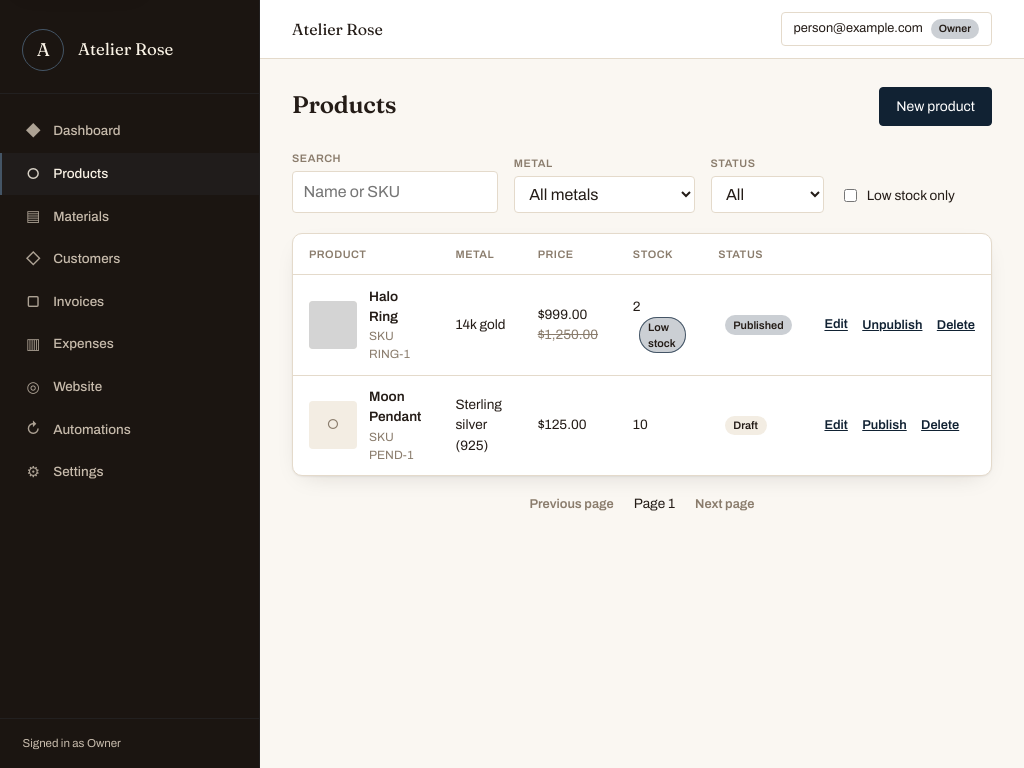
Scenario: products list › filters by search, metal, status and low stock (in the URL and the request)
This screenshot has width=1024, height=768.
Expected: the link "Halo Ring" is shown, [369,289,398,324]
Type "ring" into the search field labelled "Search" at (395, 192), box [292,171,498,213]
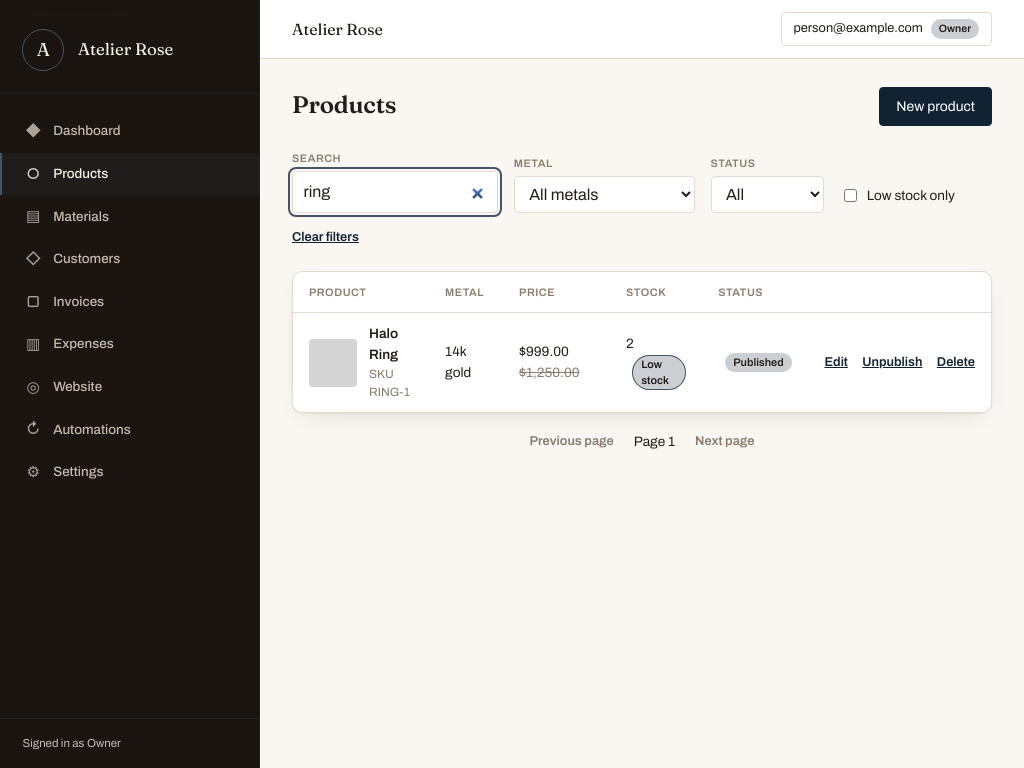
Expected: the link "Moon Pendant" is gone
Select "14k gold" in the dropdown labelled "Metal" at (604, 195), box [514,176,695,213]
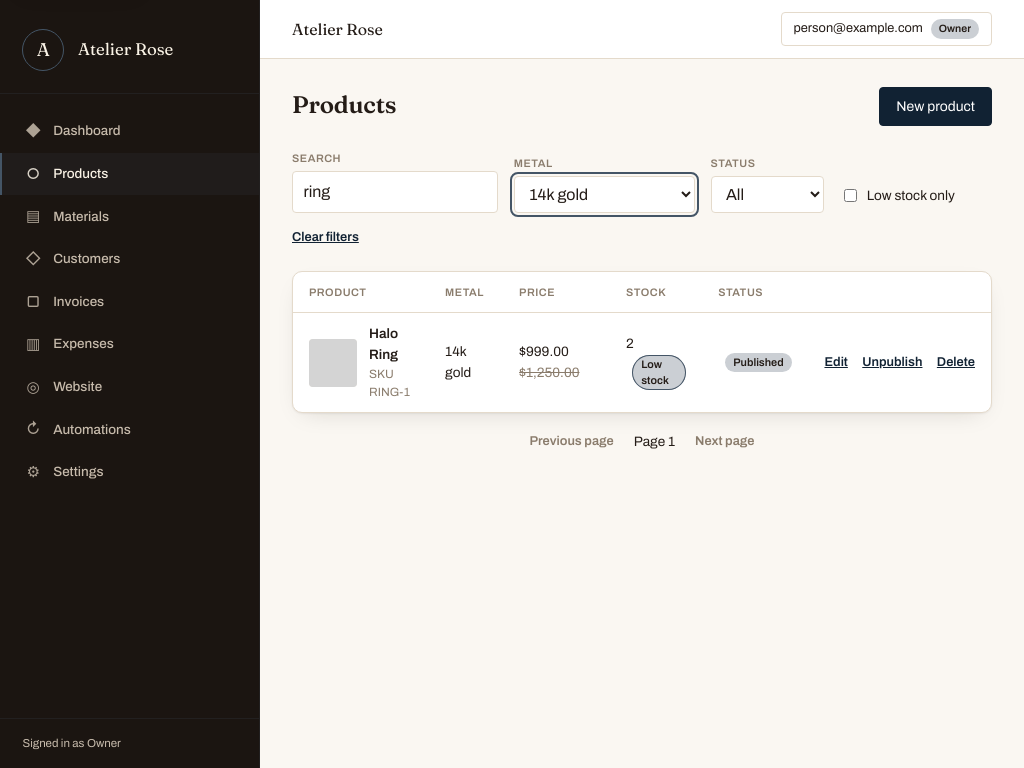
Select "Published" in the dropdown labelled "Status" at (768, 195), box [711,176,824,213]
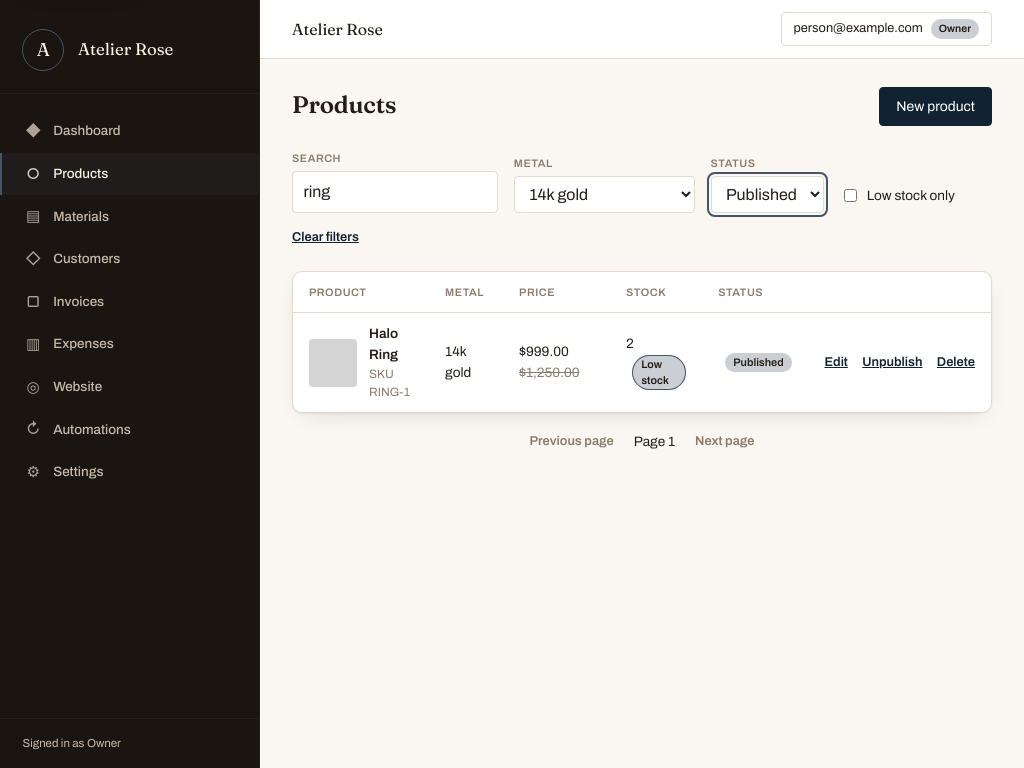
Click the checkbox labelled "Low stock only" at (851, 196), box [844,189,857,202]
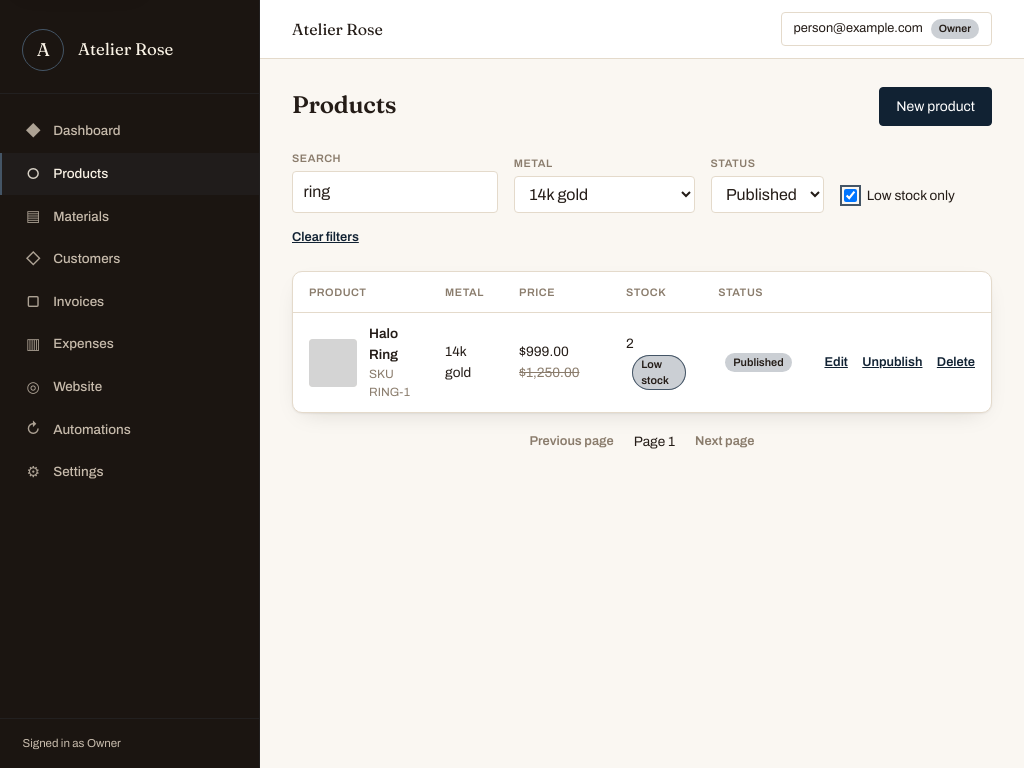
Click the button "Clear filters" at (325, 238), box [292,225,359,251]
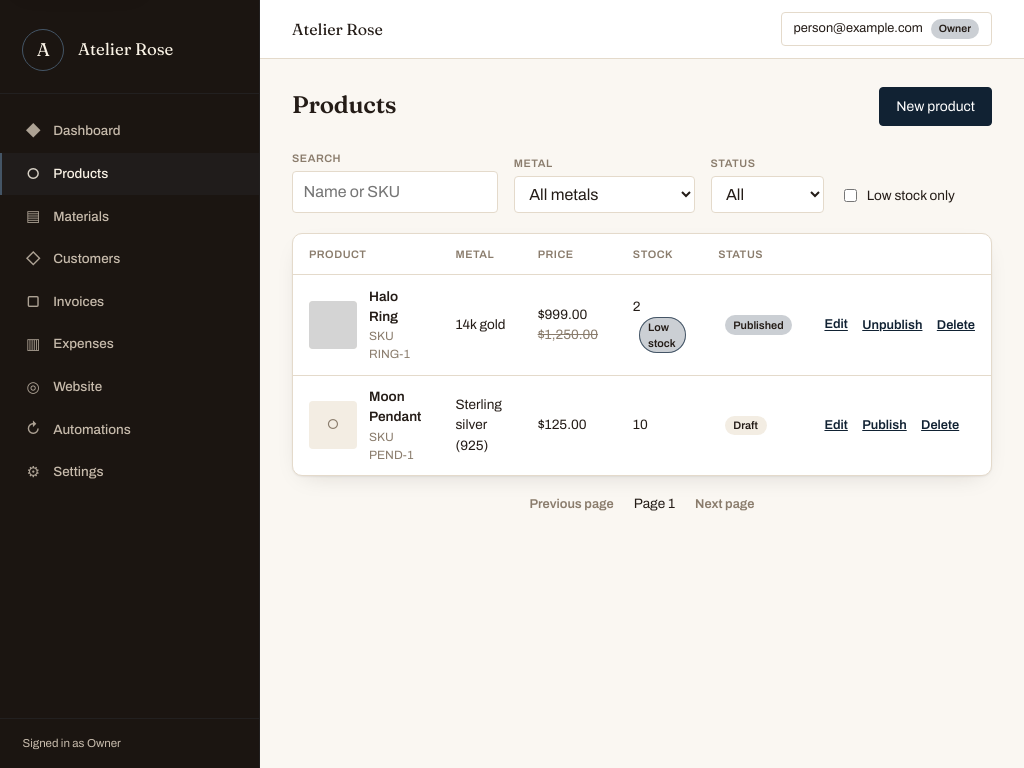
Expected: the link "Moon Pendant" is shown, [369,389,421,424]
